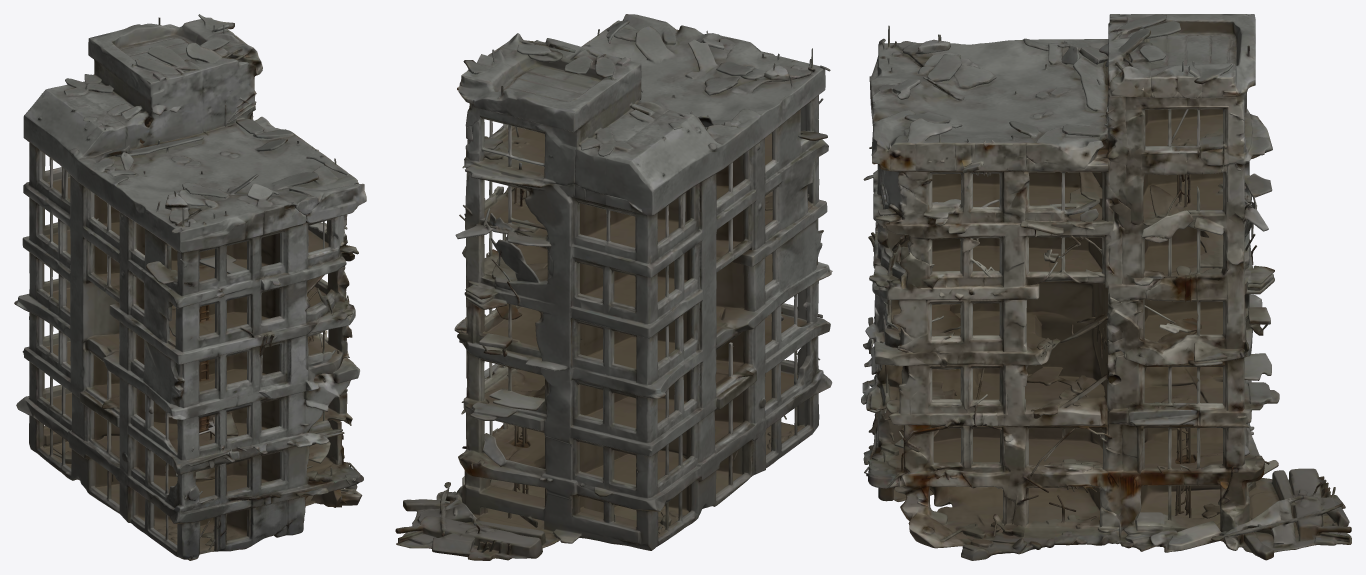
Rendered from office_ruin.glb.
The picture shows the model from 3 angles, left to right: view 1: azimuth 30°, elevation 25°; view 2: azimuth 150°, elevation 25°; view 3: azimuth 270°, elevation 25°; orthographic projection. The views are drawn at different scales.
Parts seen in each view (by area): view 1: tripo_node_8838bf9e-17df-41fb-bfe1-2041dfb1026b; view 2: tripo_node_8838bf9e-17df-41fb-bfe1-2041dfb1026b; view 3: tripo_node_8838bf9e-17df-41fb-bfe1-2041dfb1026b.
Boxes of the visible parts, bbox=[...] form: tripo_node_8838bf9e-17df-41fb-bfe1-2041dfb1026b: bbox=[14, 14, 366, 560]; tripo_node_8838bf9e-17df-41fb-bfe1-2041dfb1026b: bbox=[395, 14, 832, 560]; tripo_node_8838bf9e-17df-41fb-bfe1-2041dfb1026b: bbox=[861, 14, 1351, 560].
Size of the model in its own units: 0.5839 by 0.9791 by 0.9089.
1 material, 1 textured.
